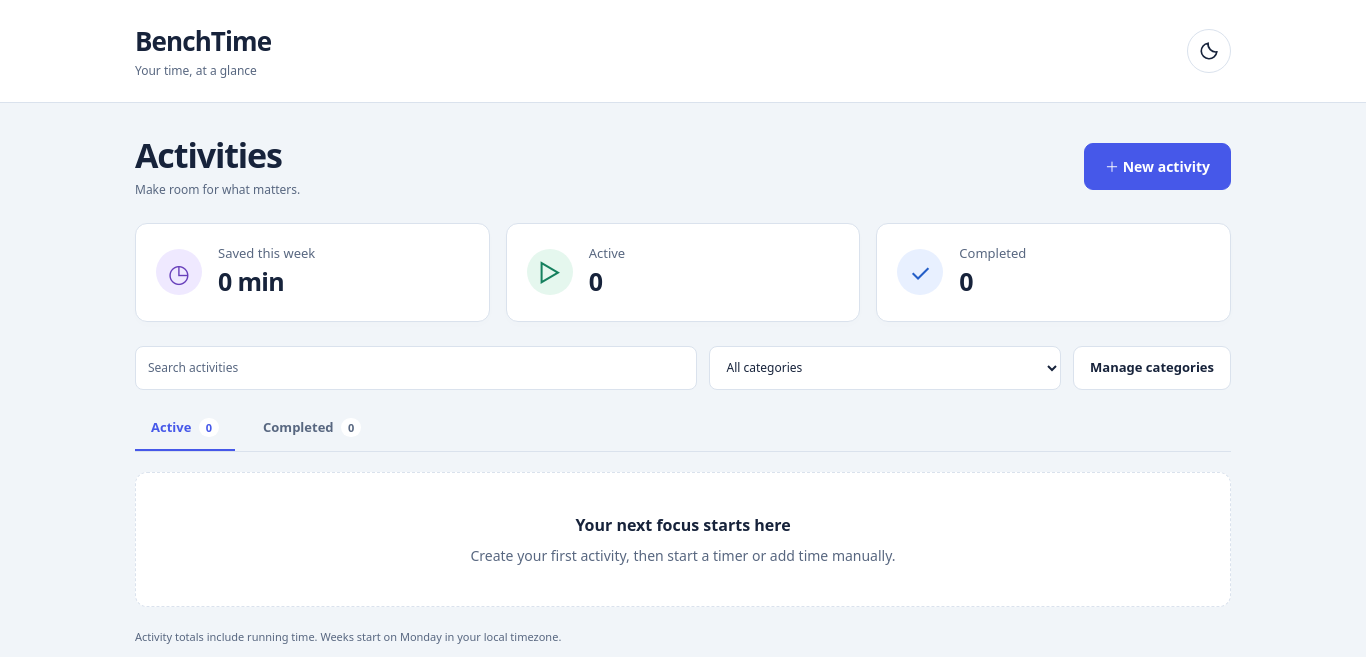
it: creates an activity and displays the saved response
Click the button "＋ New activity" at (1158, 167), box [1084, 143, 1231, 190]
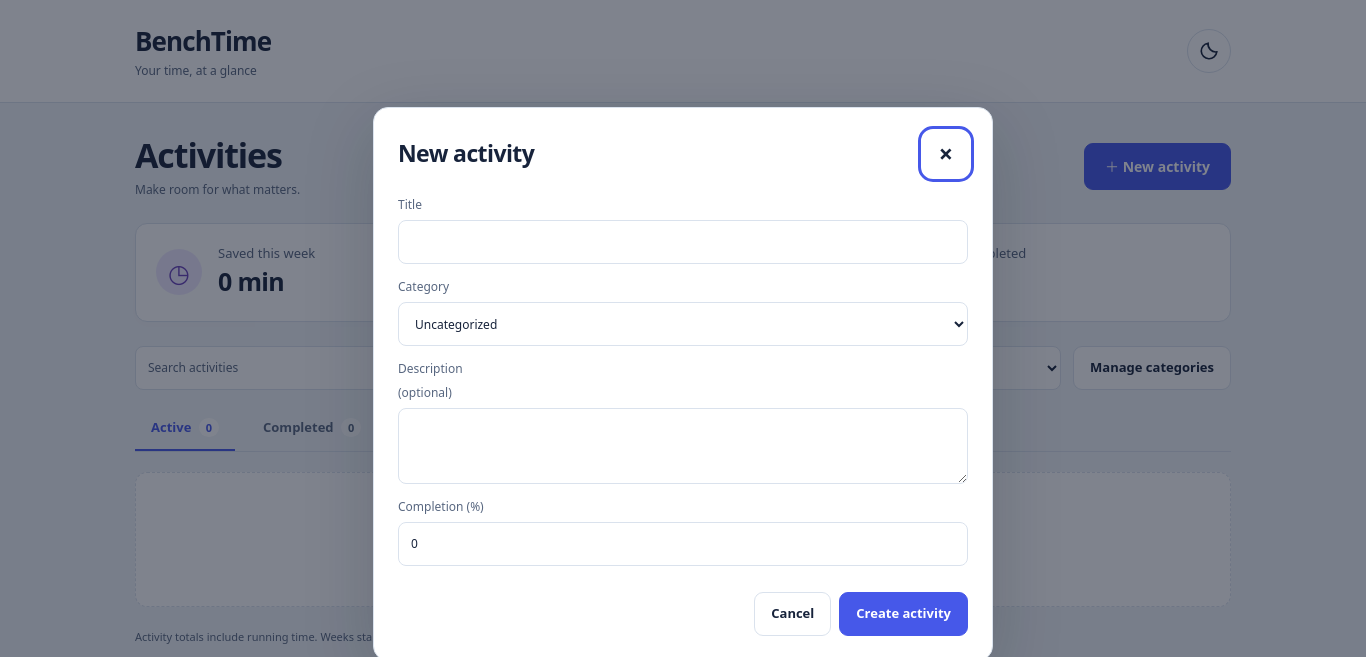
Type "Learn Python" into the field labelled "Title" at (683, 242), box [398, 220, 968, 264]
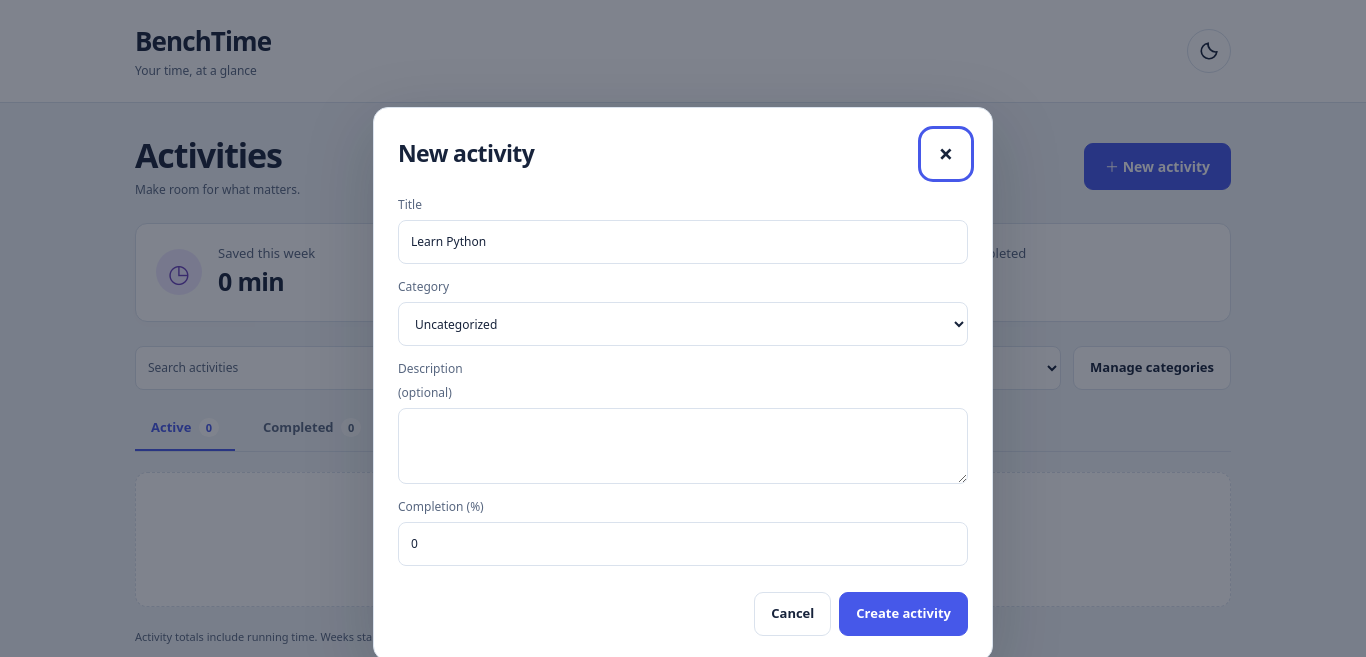
Submit the form, box [398, 196, 968, 636]
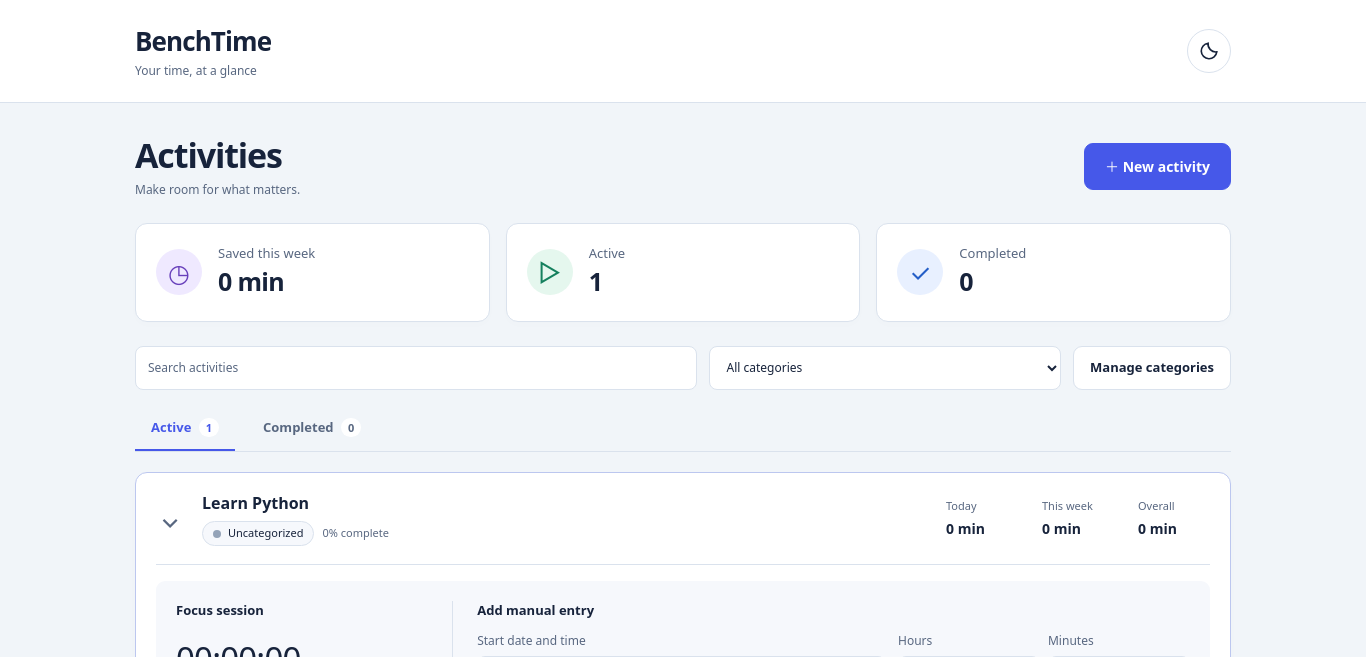
Now the element with class "activity-copy" shows "Learn Python", box [202, 492, 309, 514]
